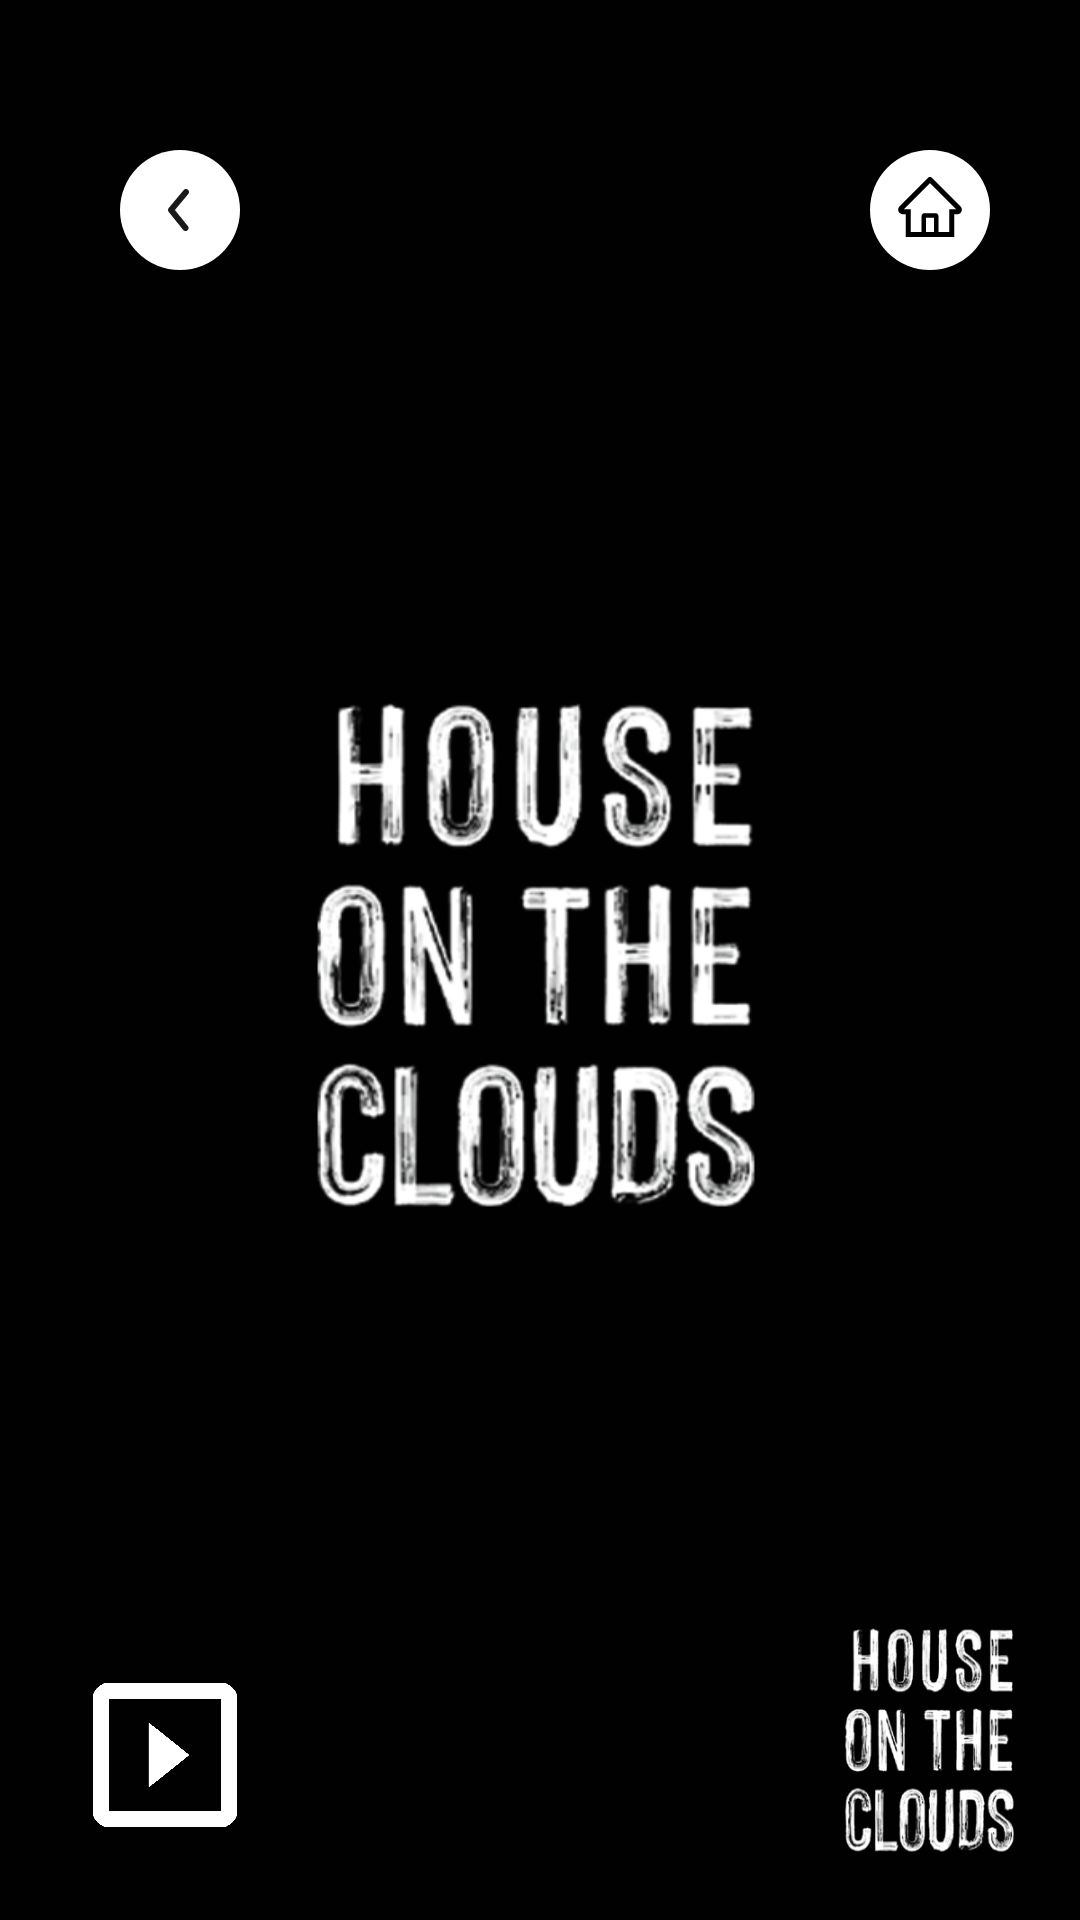

Where icons sit on this 1080px x 1920px app screen, as (x1, y1, x2, y2):
back: (120, 150, 240, 270)
home: (870, 150, 990, 270)
slide play: (93, 1683, 237, 1827)
